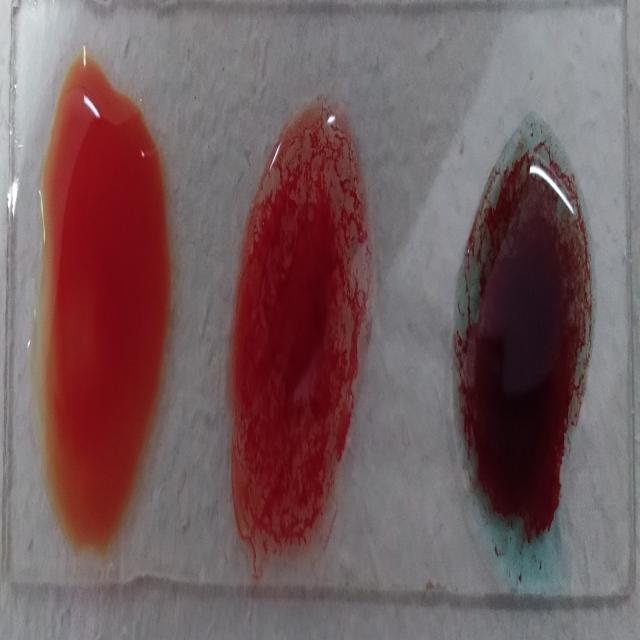A: (452, 105, 589, 588)
D: (235, 92, 362, 562)
